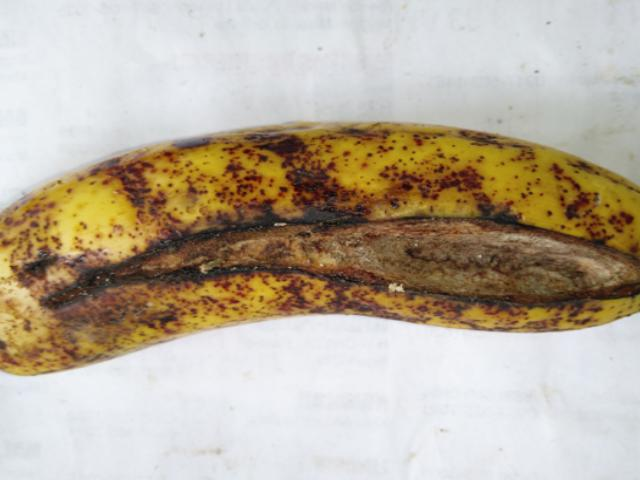rotten: (31, 168, 639, 326)
